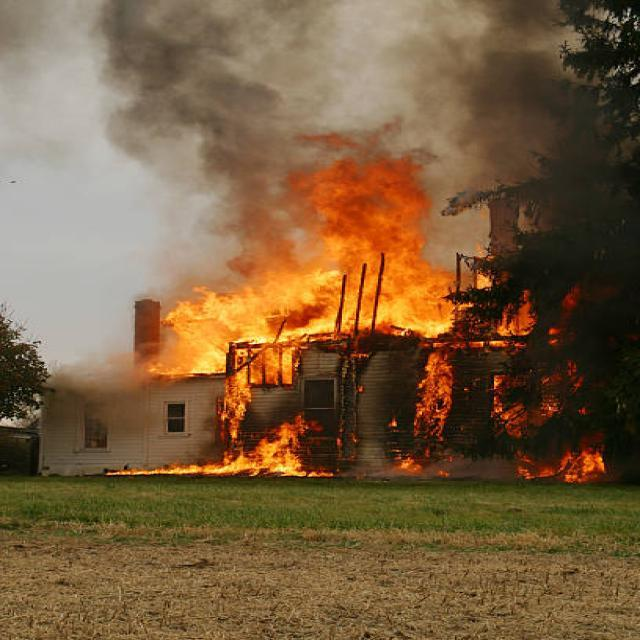Fire: (199, 152, 464, 340), (156, 288, 338, 490), (410, 318, 605, 492)
Smoke: (99, 0, 572, 299)
